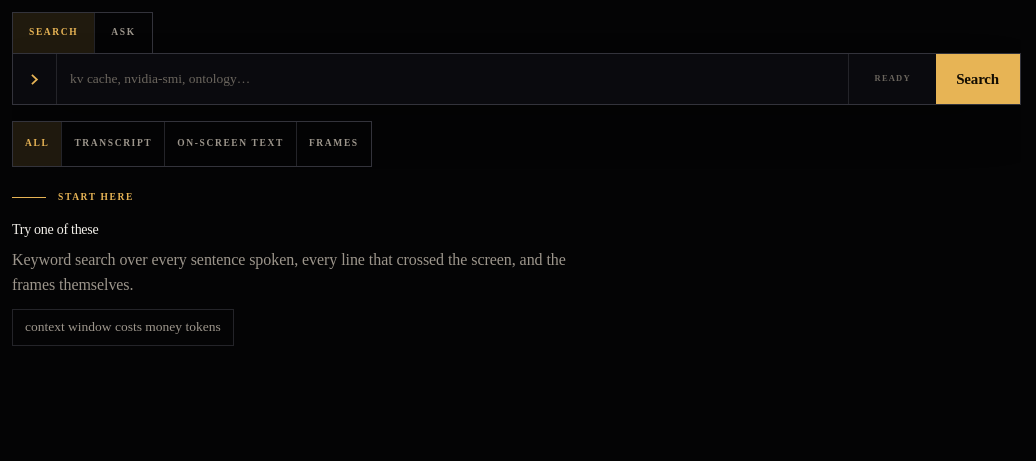
the console in search mode › fetches on Enter, writes the URL through history, and never on a keystroke
The image size is (1036, 461).
Click the button "on-screen text" at (231, 144), box [165,122,297,166]
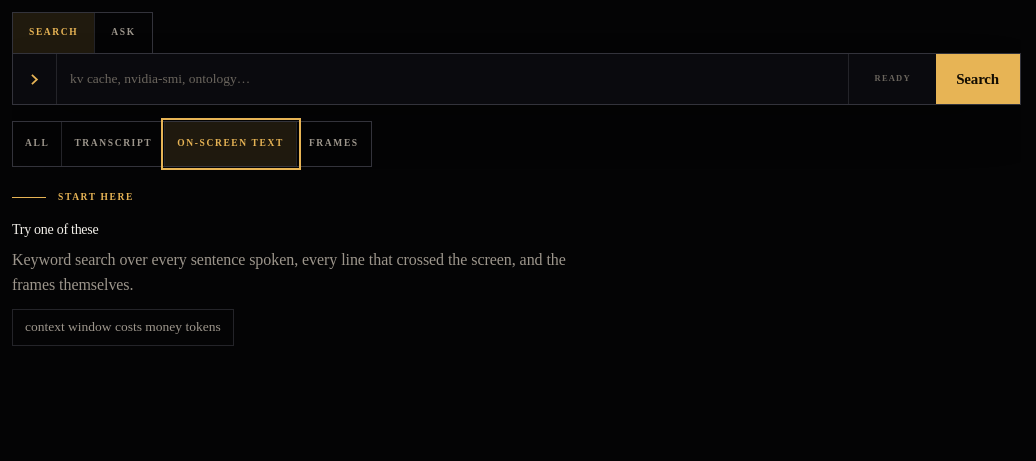
Type "kv cache" into the search field named "Search this video corpus" at (453, 79), box [57,54,848,104]
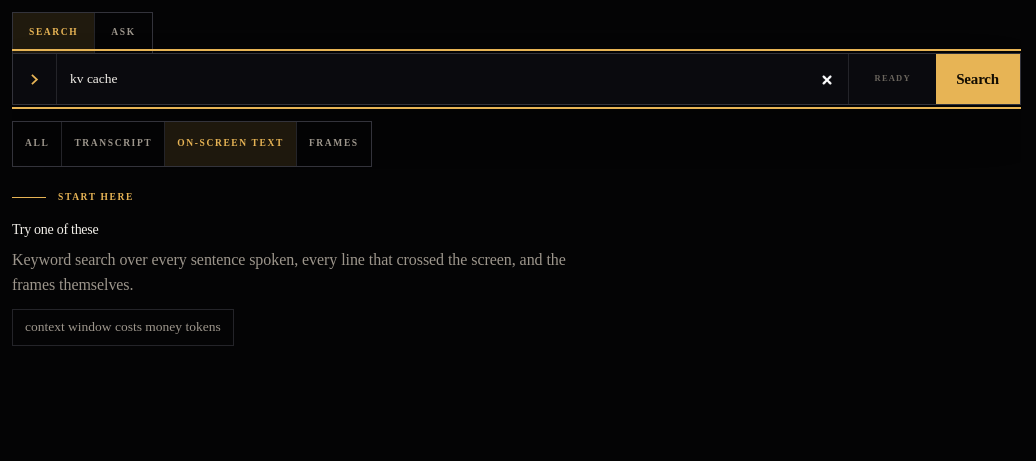
Press Enter
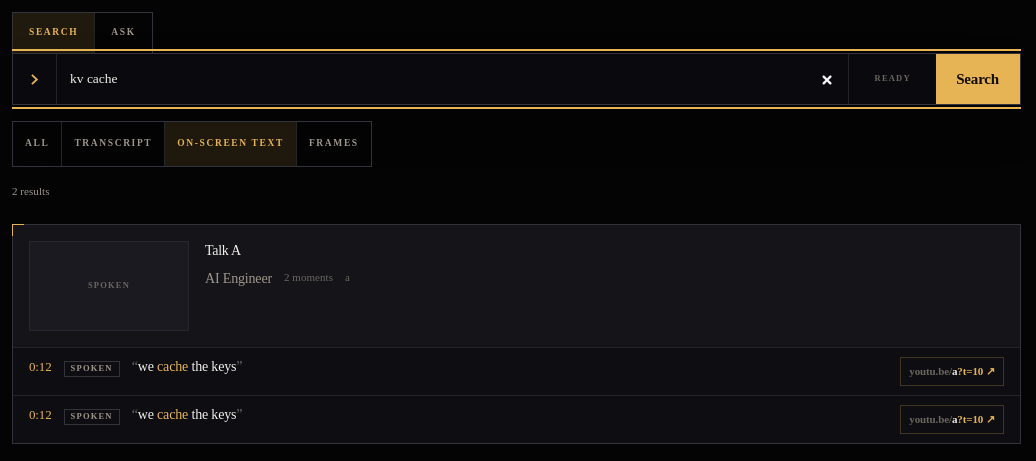
expect the text "2 results" is shown: met, box [12,185,50,197]
